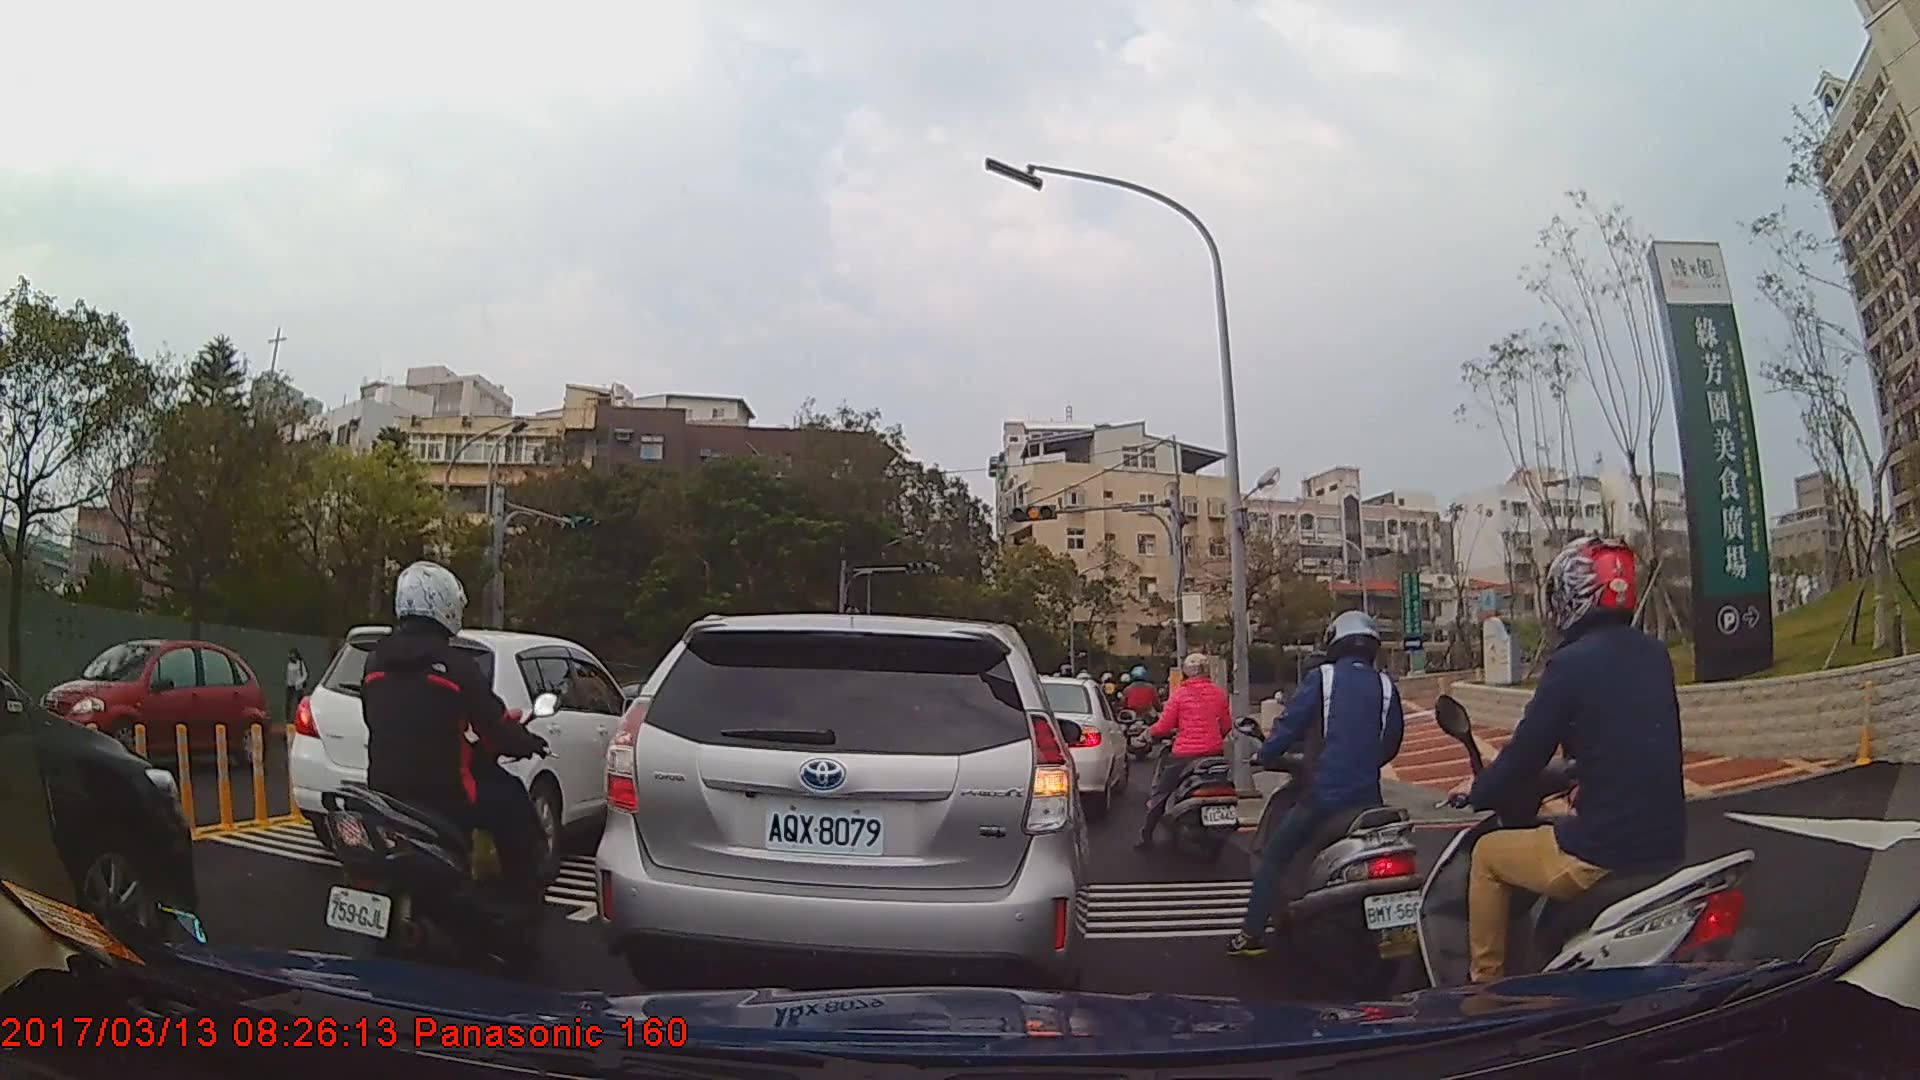pedestrian: (285, 649, 310, 726)
rider: (1421, 533, 1759, 1059), (317, 562, 564, 996), (1241, 610, 1432, 1000), (1140, 652, 1244, 866), (1120, 665, 1160, 764)
vehicle: (595, 612, 1090, 1016), (291, 626, 637, 872), (0, 664, 194, 954), (47, 639, 265, 767), (1018, 673, 1129, 813)
